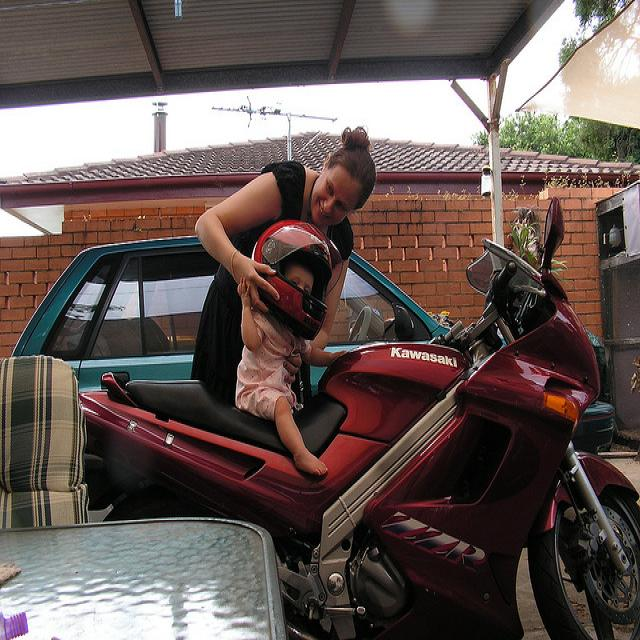motor: (81, 194, 640, 634)
